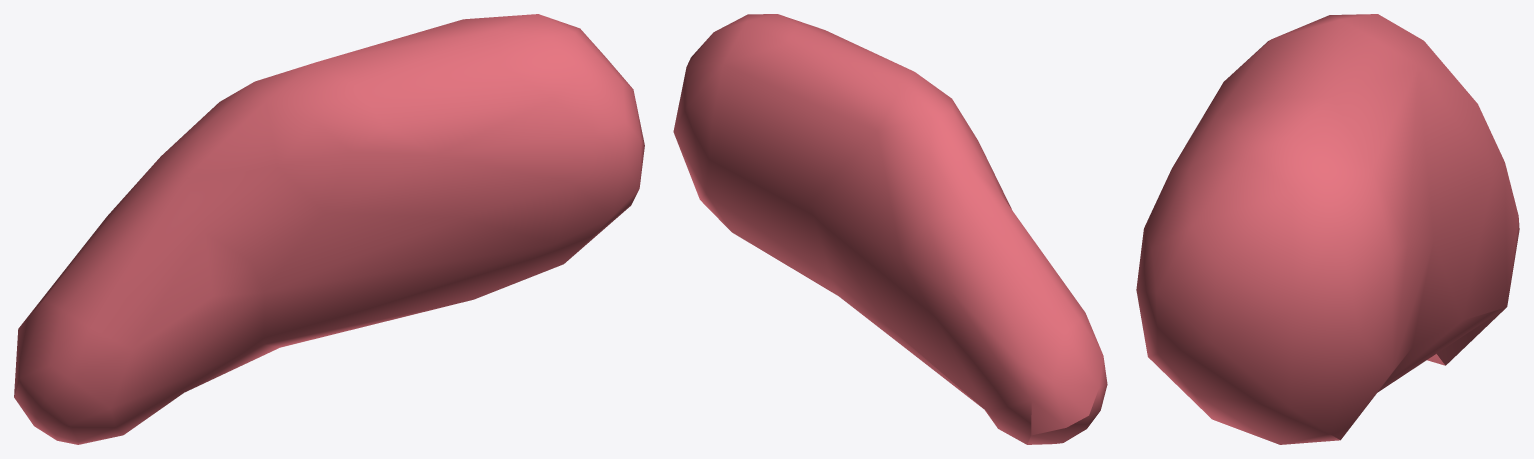
File: fma50303_fj3040.glb
The picture shows the model from 3 angles, left to right: view 1: azimuth 30°, elevation 25°; view 2: azimuth 150°, elevation 25°; view 3: azimuth 270°, elevation 25°; orthographic projection. The views are drawn at different scales.
Parts seen in each view (by area): view 1: FMA50303_FJ3040; view 2: FMA50303_FJ3040; view 3: FMA50303_FJ3040.
Boxes of the visible parts, x1=… form: FMA50303_FJ3040: x1=14, y1=14, x2=644, y2=444; FMA50303_FJ3040: x1=673, y1=14, x2=1107, y2=444; FMA50303_FJ3040: x1=1136, y1=14, x2=1519, y2=444.
Bounding box in the file's own units: 0.0275 × 0.0176 × 0.013.
